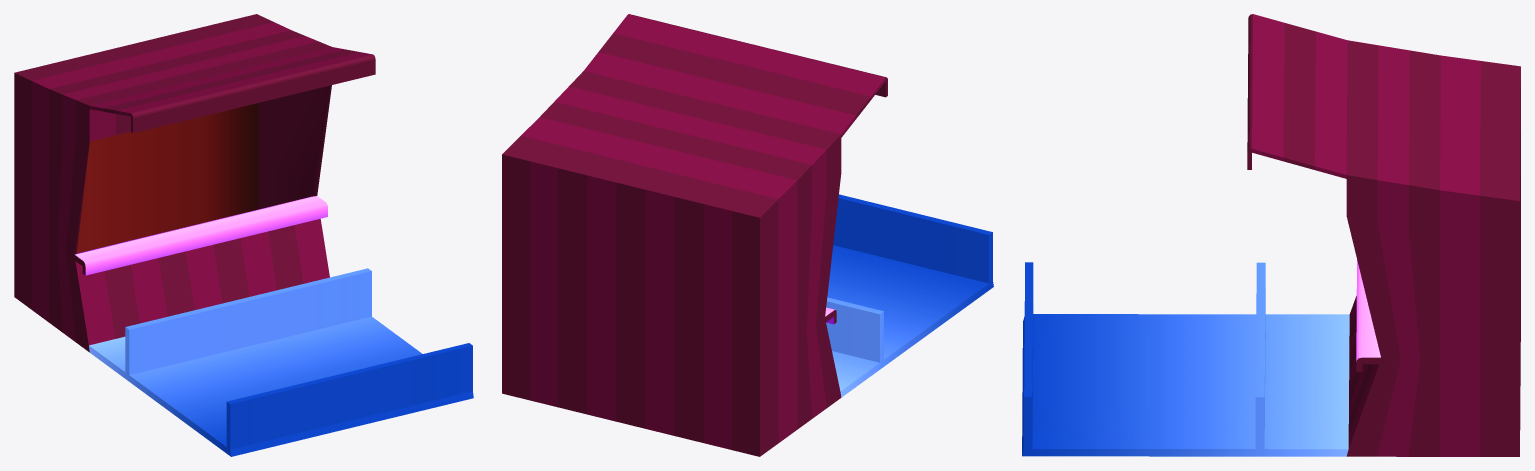
Rendered from grid1-smallattraction1.glb.
3 views of the same model, side by side, from view 1: azimuth 30°, elevation 25°; view 2: azimuth 150°, elevation 25°; view 3: azimuth 270°, elevation 25° (orthographic). The views are drawn at different scales.
Parts seen in each view (by area): view 1: attraction1; view 2: attraction1; view 3: attraction1.
Boxes of the visible parts, box(x1,y1,x2,y2) form: attraction1: box(14, 14, 473, 456); attraction1: box(502, 14, 993, 456); attraction1: box(1022, 14, 1520, 456).
Size of the model in its own units: 0.6253 by 0.6624 by 0.9732.
Materials: 1 (1 with a texture image).
